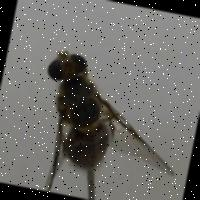Oriental-fruit-fly: (19, 39, 193, 200)
